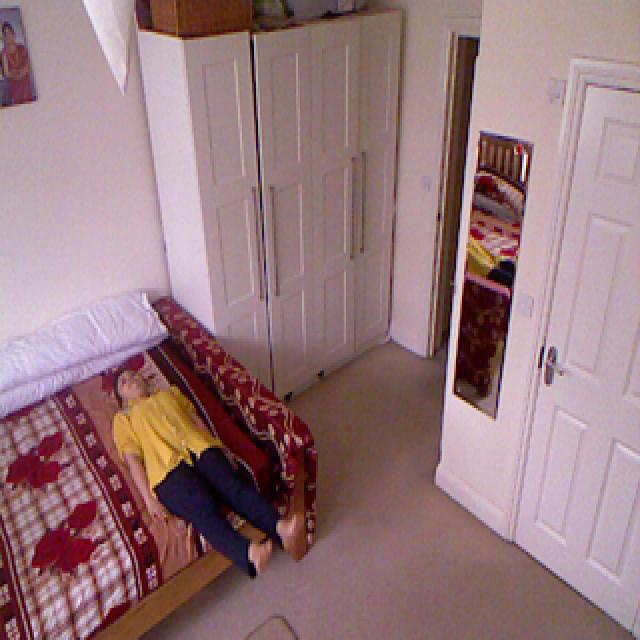lying: (105, 356, 312, 597)
